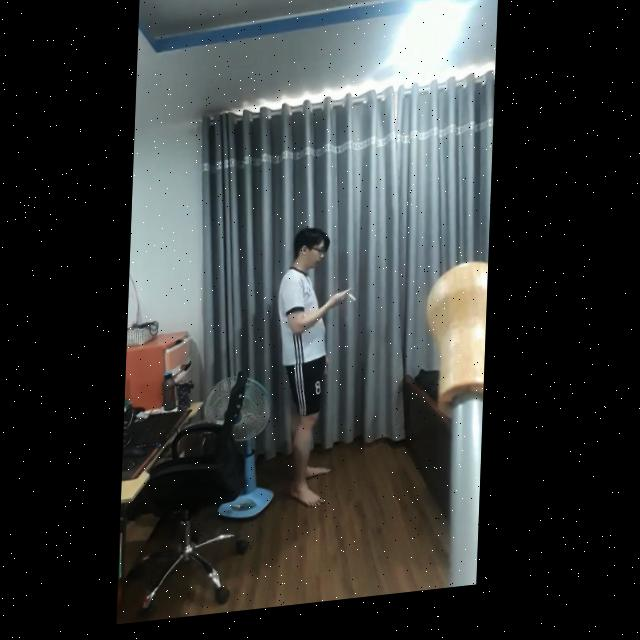cigarette: (352, 301, 361, 311)
